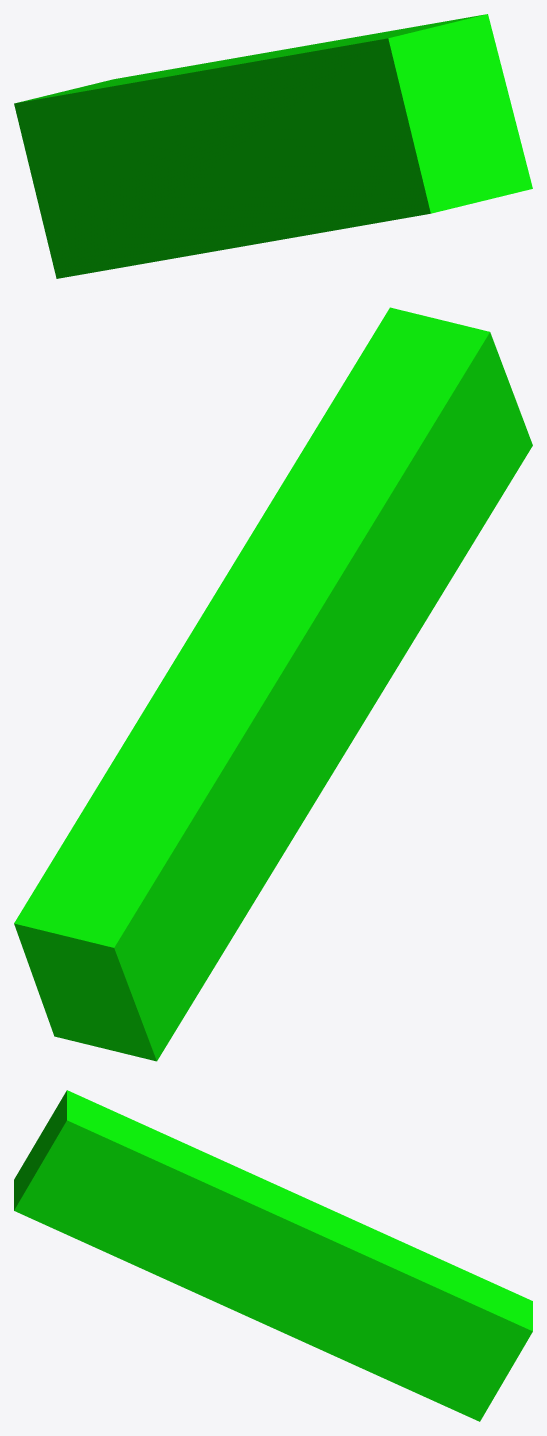
The model's file is SM_Roof_Moderate_Truss_Wood_Diagonal_1m.fbx.
The picture shows the model from 3 angles, top to bottom: view 1: azimuth 30°, elevation 25°; view 2: azimuth 150°, elevation 25°; view 3: azimuth 270°, elevation 25°; orthographic projection. The views are drawn at different scales.
Parts seen in each view (by area): view 1: roof-moderate-truss-wood-diagonal-1m; view 2: roof-moderate-truss-wood-diagonal-1m; view 3: roof-moderate-truss-wood-diagonal-1m.
Boxes of the visible parts, left/top/right/bottom form: roof-moderate-truss-wood-diagonal-1m: left=14, top=14, right=532, bottom=278; roof-moderate-truss-wood-diagonal-1m: left=14, top=307, right=532, bottom=1061; roof-moderate-truss-wood-diagonal-1m: left=14, top=1090, right=532, bottom=1421.
Size of the model in its own units: 0.1575 by 0.7126 by 1.11.
